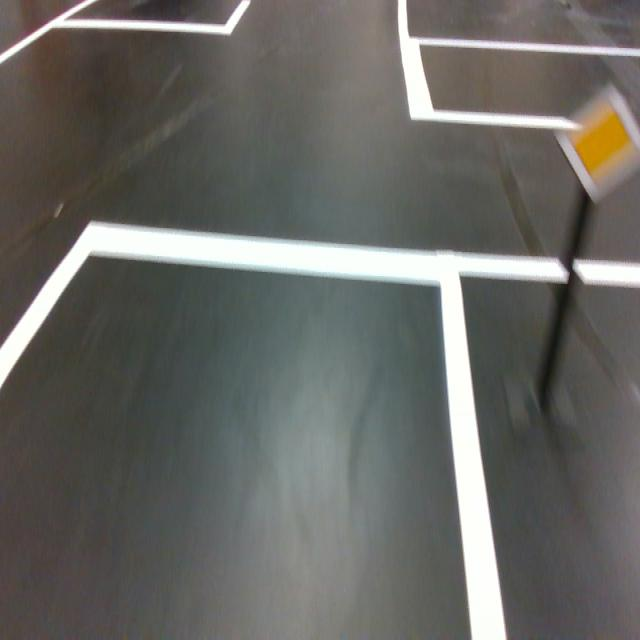priority-sign: (550, 79, 640, 207)
